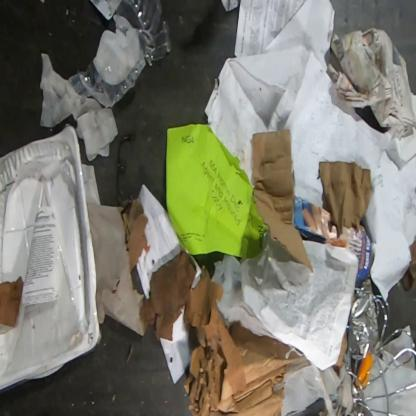cardboard: (182, 264, 305, 415), (252, 127, 314, 275), (331, 328, 348, 378)
metal: (344, 277, 415, 415)
rigid_plastic: (0, 123, 102, 391), (67, 0, 172, 109)
